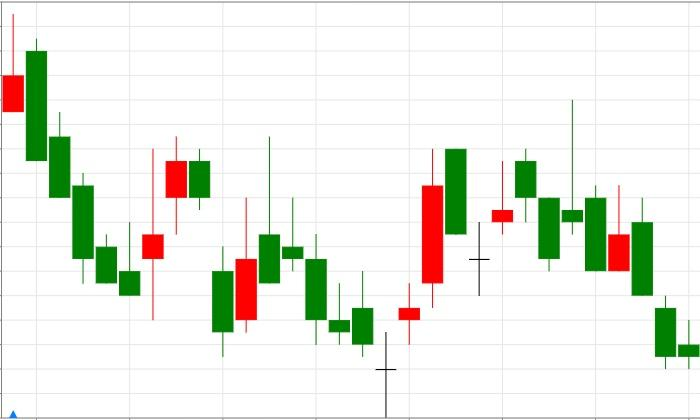inverse_hammer_rise: (26, 37, 141, 296)
morning_star_rise: (259, 136, 420, 418)
